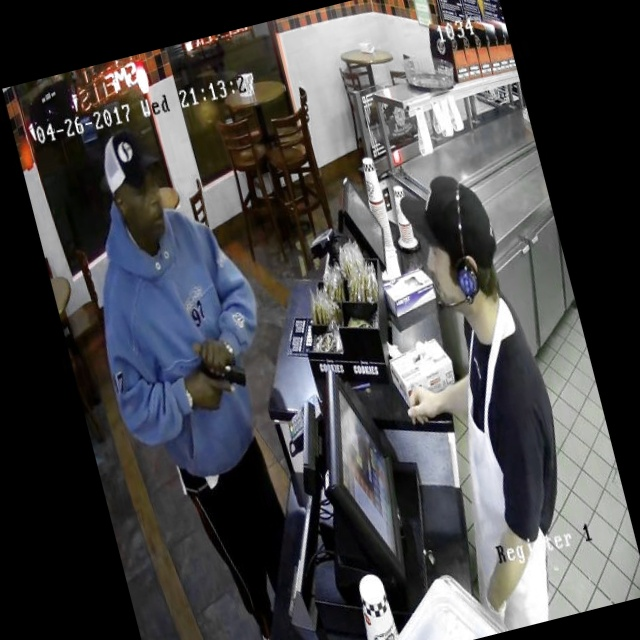gun: (185, 340, 260, 407)
